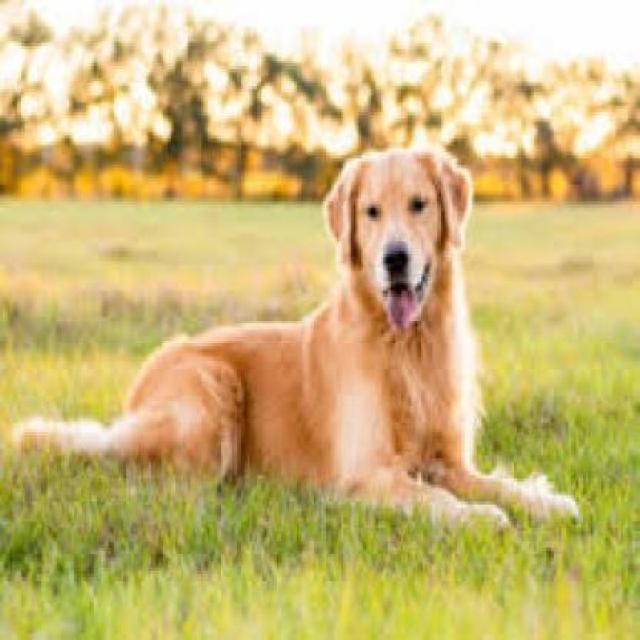animals: (20, 89, 603, 640)
